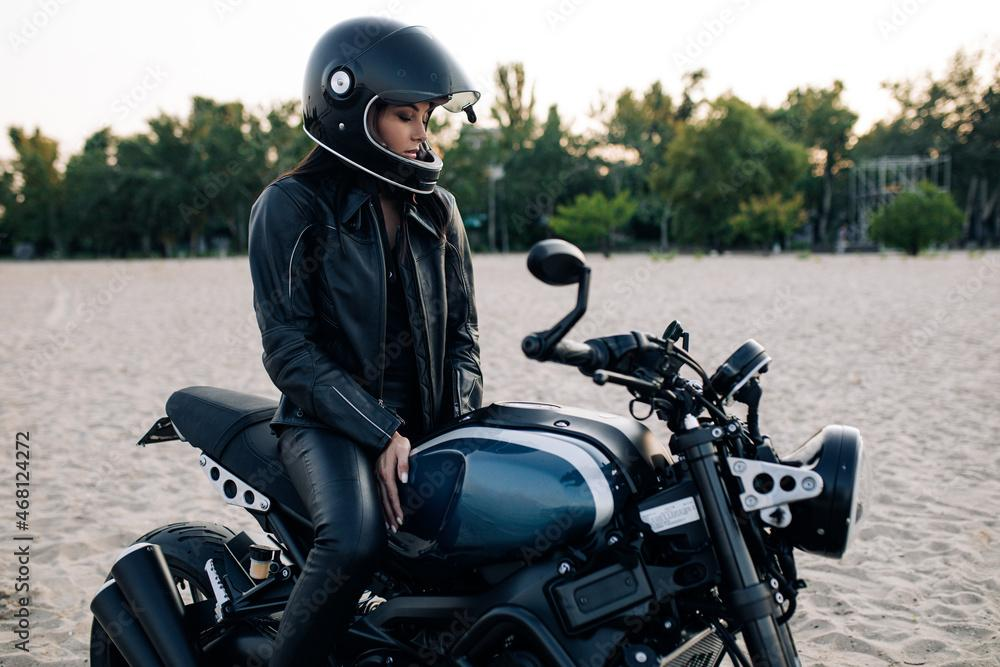helmet: (301, 12, 482, 196)
